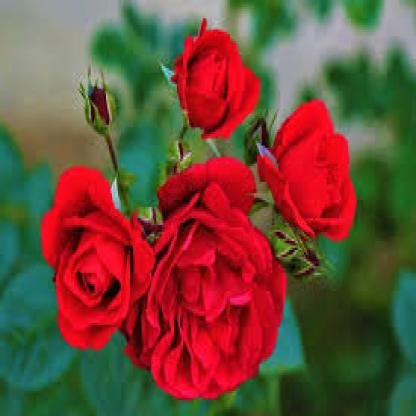Rose-Mawar: (28, 8, 358, 403)
